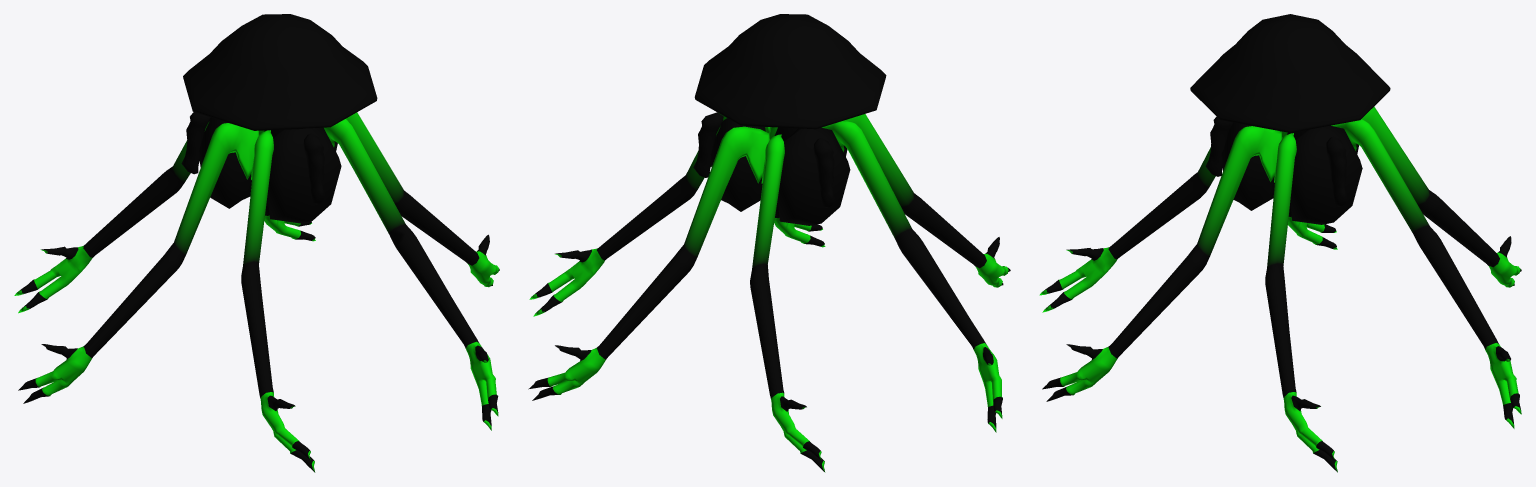
The model's file is Jellyfish.fbx.
3 renders of one model, left to right at view 1: azimuth 30°, elevation 25°; view 2: azimuth 150°, elevation 25°; view 3: azimuth 270°, elevation 25°, orthographic.
Parts seen in each view (by area): view 1: jellyfish; view 2: jellyfish; view 3: jellyfish.
Part boxes in pixels (bbox=[...]): jellyfish: bbox=[14, 14, 499, 472]; jellyfish: bbox=[528, 14, 1010, 472]; jellyfish: bbox=[1039, 14, 1521, 472].
Size of the model in its own units: 1.35 by 0.9241 by 1.19.
